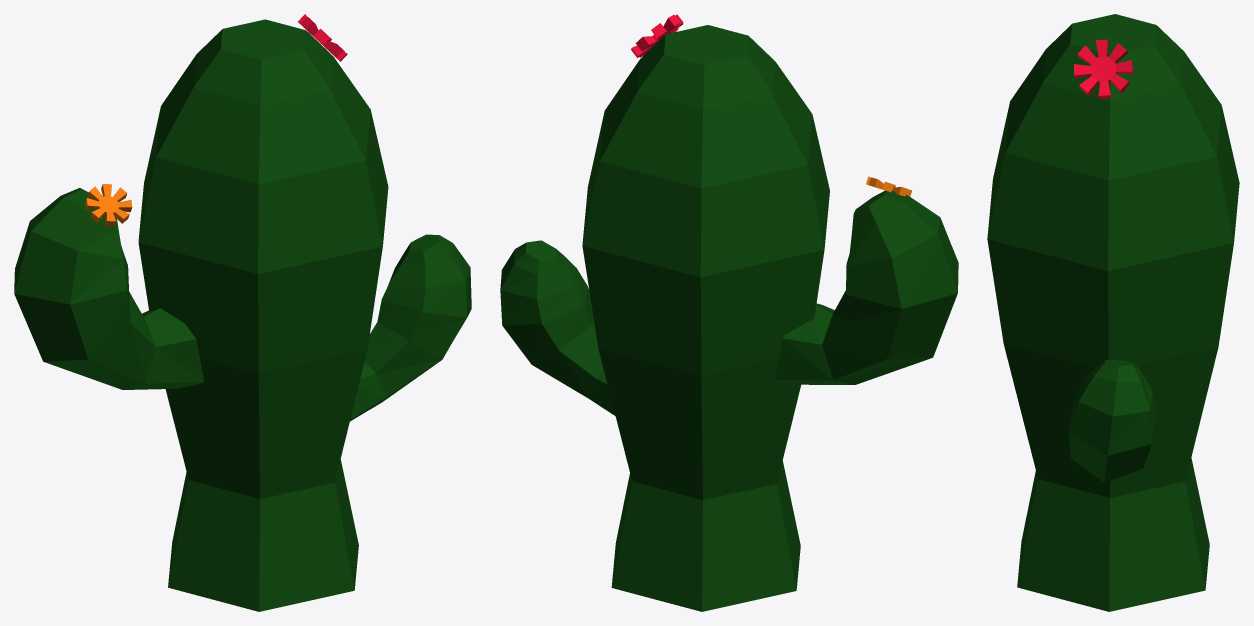
The model's file is Cactus.fbx.
The picture shows the model from 3 angles, left to right: view 1: azimuth 30°, elevation 25°; view 2: azimuth 150°, elevation 25°; view 3: azimuth 270°, elevation 25°; orthographic projection.
Visible parts, largest first — view 1: Cylinder009; view 2: Cylinder009; view 3: Cylinder009.
Boxes of the visible parts, x1,y1,x2,y2 form: Cylinder009: (14, 14, 471, 611); Cylinder009: (500, 14, 958, 611); Cylinder009: (987, 14, 1239, 611).
Size of the model in its own units: 16.37 by 18.5 by 7.73.
